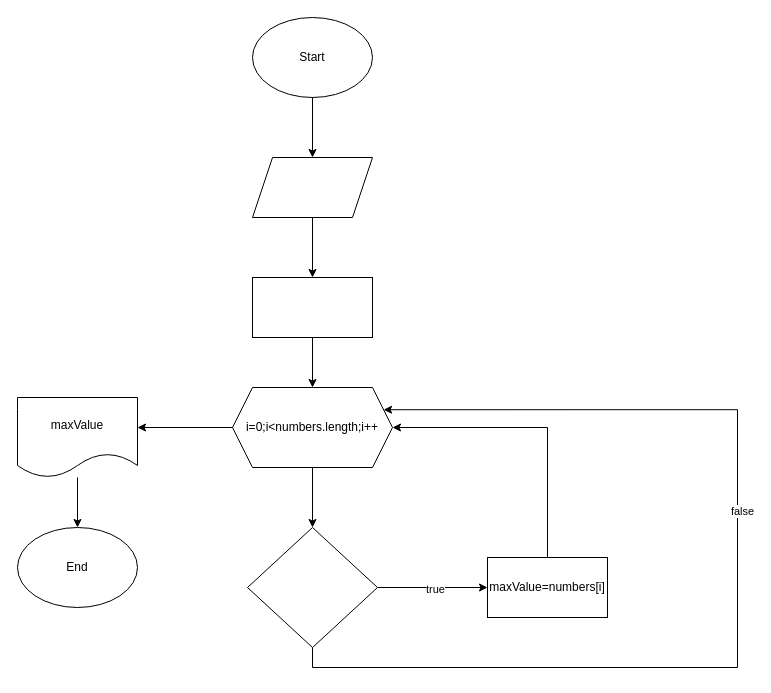
The diagram is 771 pixels wide and 693 high, and some of its shapes have lost their labels. Here are the shapes that lost their labels. From the top down, the centre of each, then its label:
the point at 312,187: numbers[i]
the point at 312,307: maxValue=numbers[0]
the point at 312,587: numbers[i]>maxValue
